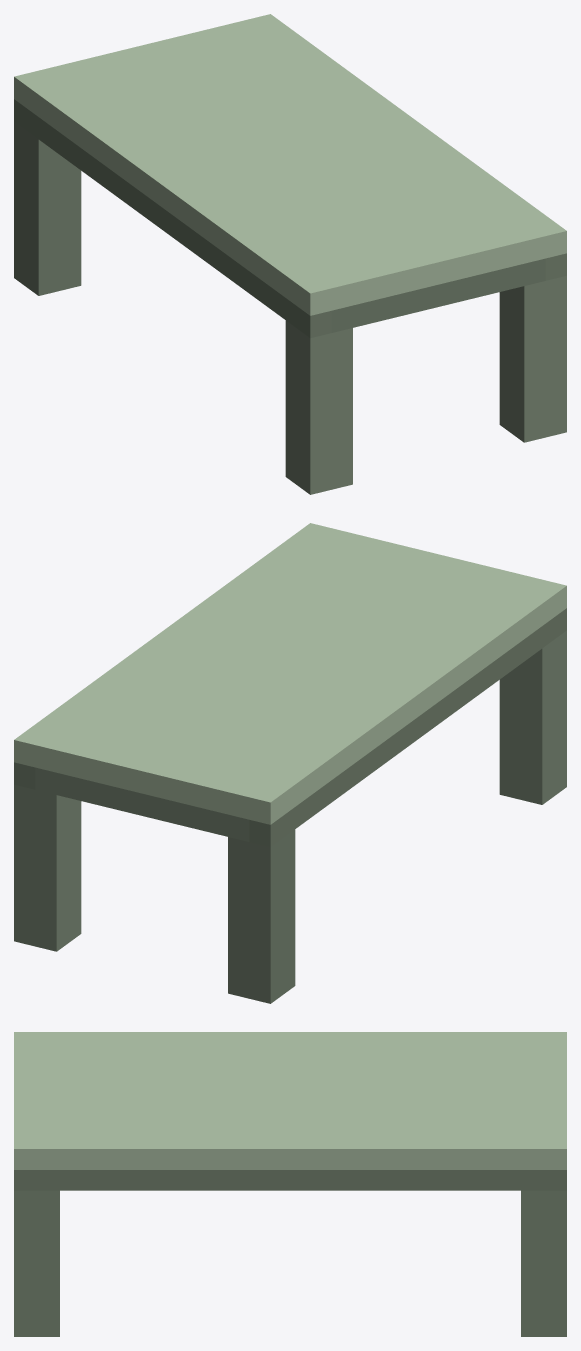
The model's file is mesa_cocina_desgastada_01.glb.
3 views of the same model, one above another, from view 1: azimuth 30°, elevation 25°; view 2: azimuth 150°, elevation 25°; view 3: azimuth 270°, elevation 25° (orthographic). The views are drawn at different scales.
Visible parts, largest first — view 1: mesa_cocina_desgastada; view 2: mesa_cocina_desgastada; view 3: mesa_cocina_desgastada.
Boxes of the visible parts, x1,y1,x2,y2 form: mesa_cocina_desgastada: [14, 14, 566, 494]; mesa_cocina_desgastada: [14, 523, 566, 1003]; mesa_cocina_desgastada: [14, 1032, 566, 1336].
Bounding box in the file's own units: 1 × 0.75 × 2.
